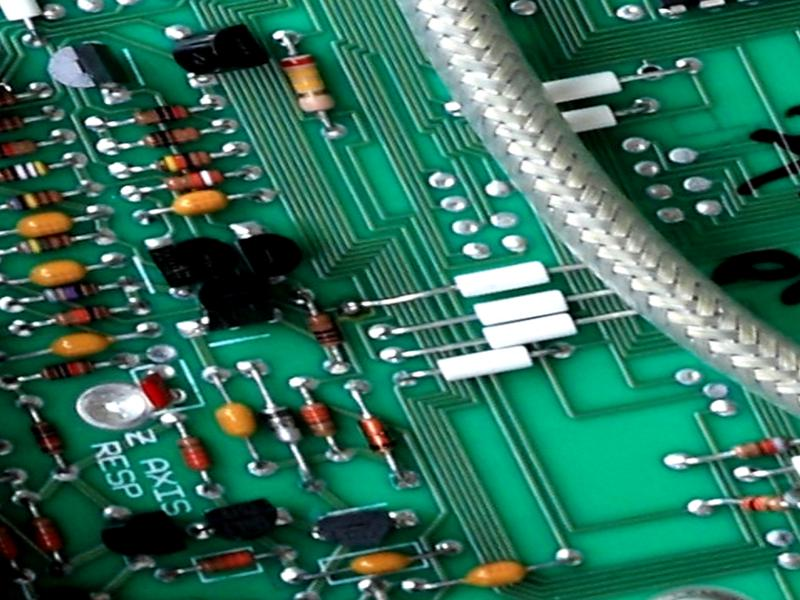Diode: (255, 400, 309, 449), (353, 410, 403, 458)
Resistor: (276, 52, 339, 115), (189, 546, 258, 583), (727, 429, 794, 467), (39, 274, 104, 307), (4, 184, 67, 217), (49, 299, 113, 331), (15, 228, 77, 260), (139, 123, 204, 153), (301, 310, 347, 352), (152, 148, 214, 179), (297, 400, 343, 441), (132, 99, 192, 130), (161, 166, 227, 194), (176, 432, 214, 479), (26, 418, 69, 458), (37, 356, 99, 383), (1, 156, 55, 187), (731, 489, 793, 516), (28, 513, 64, 554), (1, 134, 42, 158), (1, 109, 26, 133)
